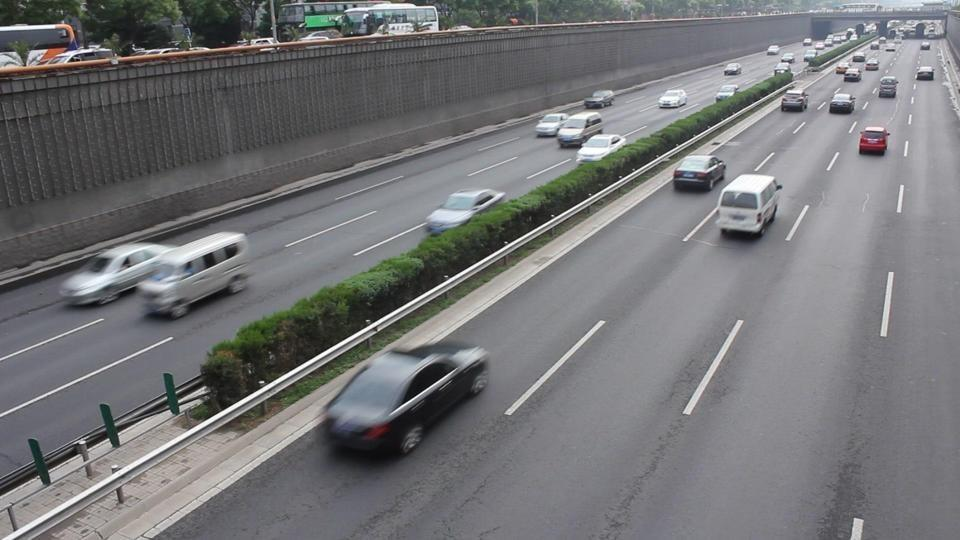car: (324, 342, 491, 457), (137, 230, 251, 320), (58, 239, 176, 306), (716, 173, 783, 237), (425, 188, 506, 236), (672, 153, 727, 193), (35, 47, 120, 69), (557, 112, 603, 149), (576, 134, 624, 164), (857, 125, 890, 156), (535, 113, 569, 137), (781, 89, 810, 113), (658, 88, 689, 109), (583, 89, 615, 109), (829, 91, 856, 114), (878, 76, 898, 98), (844, 60, 863, 82), (0, 52, 22, 70), (717, 85, 738, 100), (916, 65, 934, 81), (723, 63, 742, 76)
